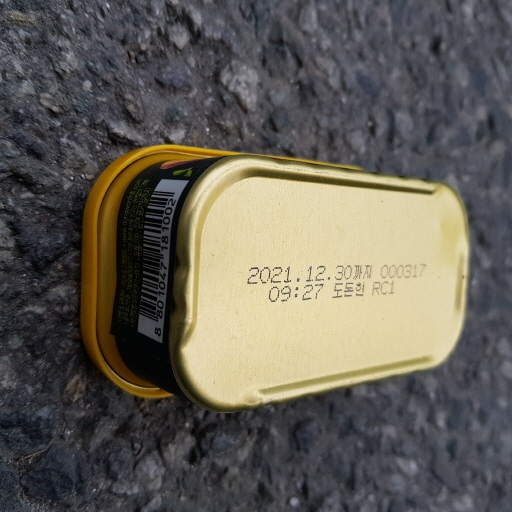Metal_2: (81, 143, 470, 406)
